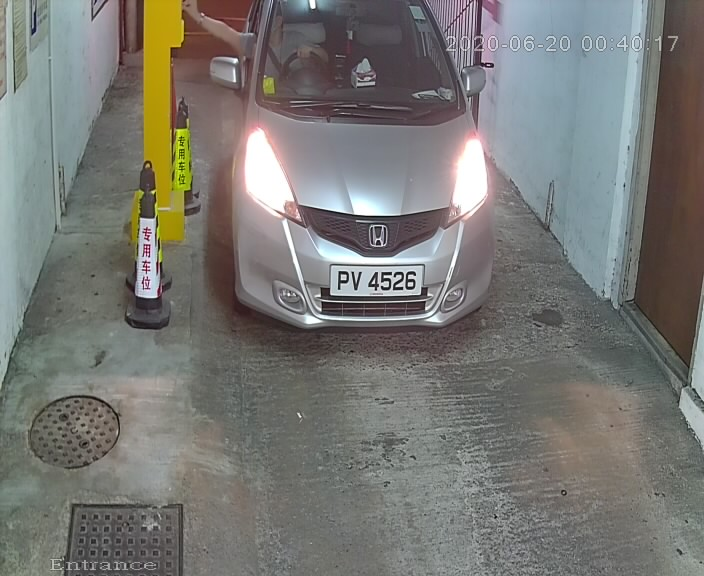privatecar: (216, 3, 510, 355)
